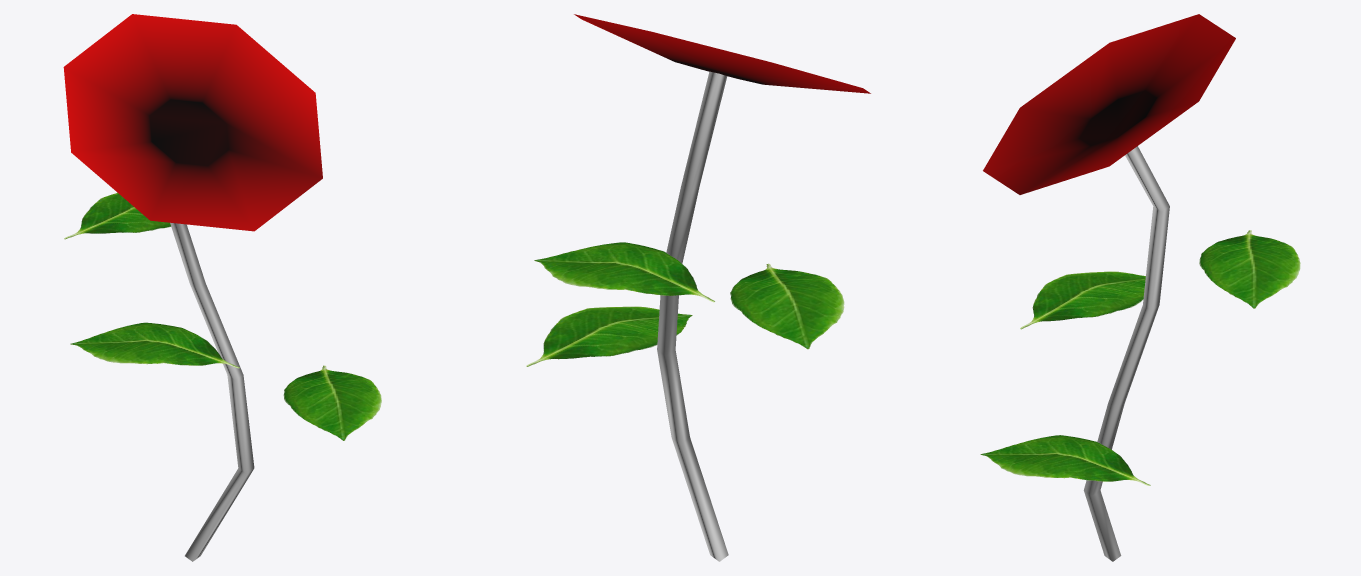
File: kytka.FBX
3 renders of one model, left to right at view 1: azimuth 30°, elevation 25°; view 2: azimuth 150°, elevation 25°; view 3: azimuth 270°, elevation 25°, orthographic. The views are drawn at different scales.
Parts seen in each view (by area): view 1: Cylinder02; view 2: Cylinder02; view 3: Cylinder02.
Boxes of the visible parts, left/top/right/bottom form: Cylinder02: left=63, top=14, right=381, bottom=561; Cylinder02: left=526, top=14, right=870, bottom=561; Cylinder02: left=980, top=14, right=1300, bottom=561.
Bounding box in the file's own units: 47.68 × 59.24 × 42.24.
